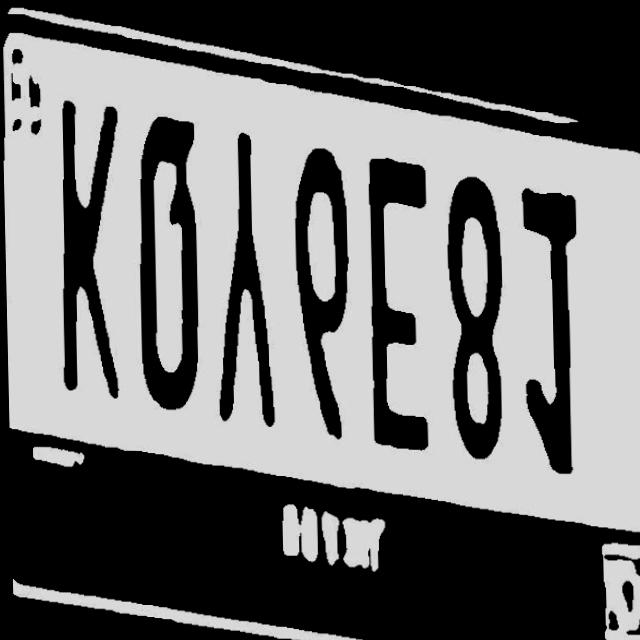1: (515, 173, 584, 483)
6: (288, 134, 356, 446)
8: (439, 160, 509, 467)
e: (359, 144, 432, 458)
k: (48, 86, 126, 409)
q: (129, 104, 208, 416)
y: (207, 121, 279, 433)
